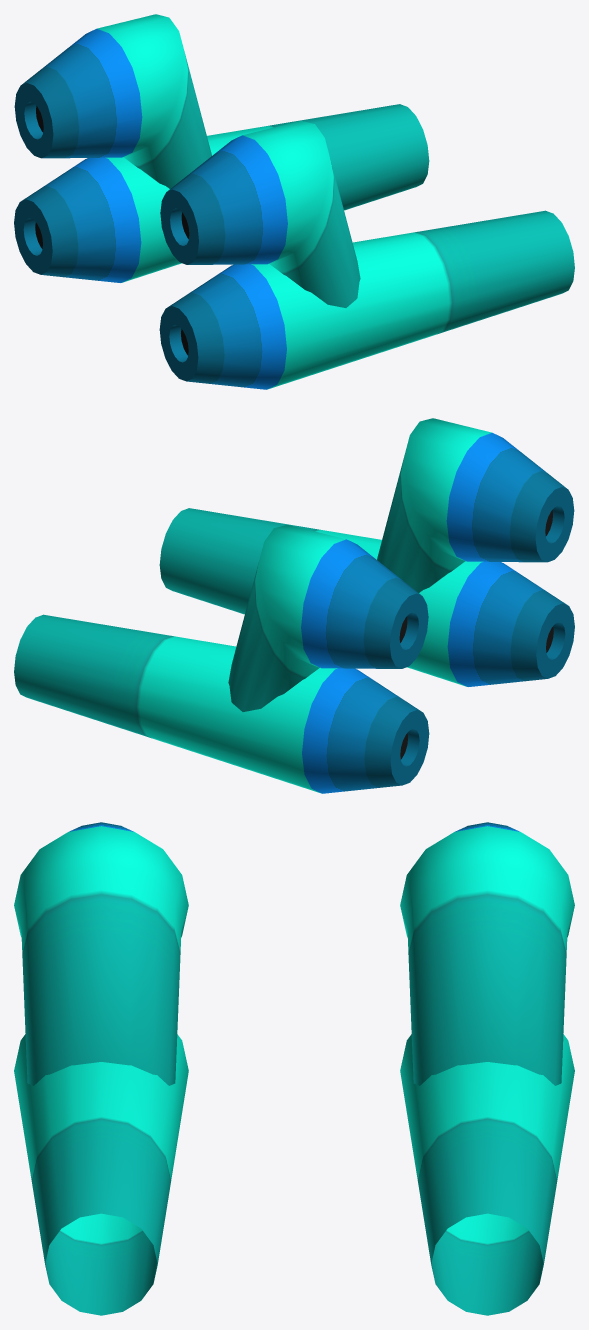
File: IceDruid_Exhaust.FBX
The picture shows the model from 3 angles, top to bottom: view 1: azimuth 30°, elevation 25°; view 2: azimuth 150°, elevation 25°; view 3: azimuth 270°, elevation 25°; orthographic projection. The views are drawn at different scales.
Visible parts, largest first — view 1: Exhaust_IceDruid; view 2: Exhaust_IceDruid; view 3: Exhaust_IceDruid.
Boxes of the visible parts, left/top/right/bottom form: Exhaust_IceDruid: left=14, top=14, right=574, bottom=389; Exhaust_IceDruid: left=14, top=418, right=574, bottom=793; Exhaust_IceDruid: left=14, top=822, right=574, bottom=1315.
Size of the model in its own units: 73.35 by 46.03 by 71.76.
